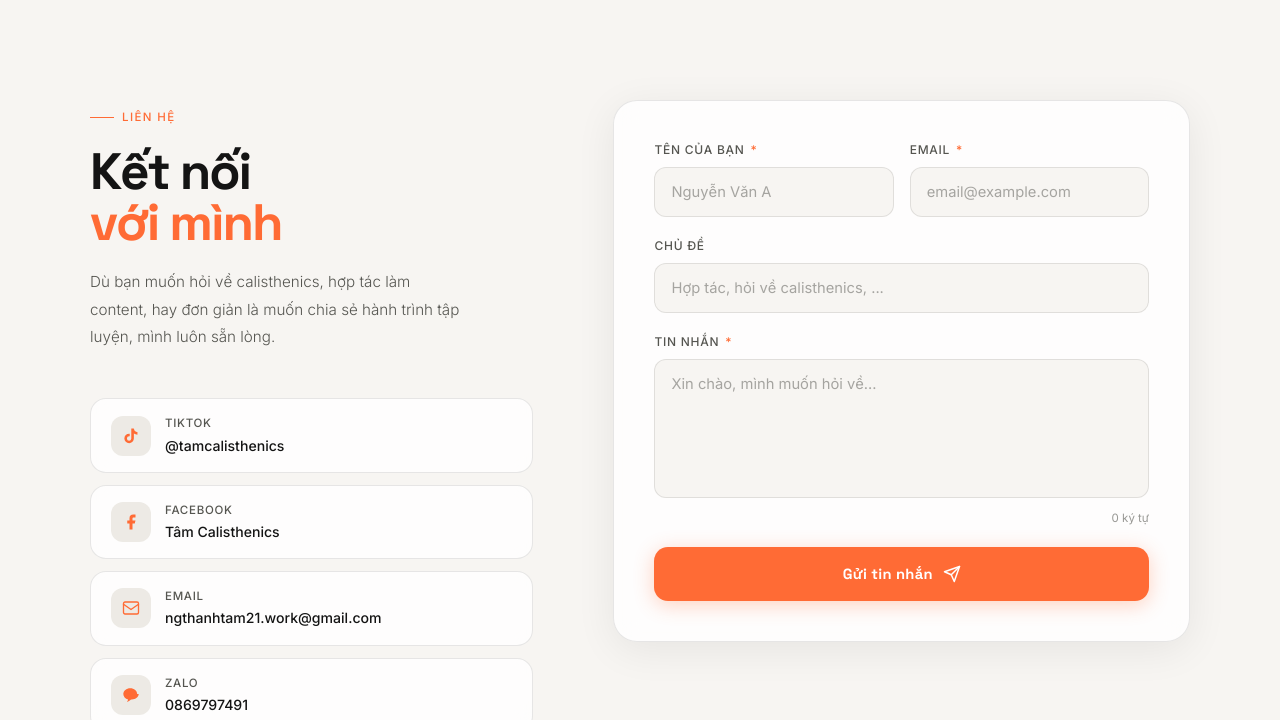
Test: ContactForm › submit thành công sẽ reset form và hiển thị thông báo
Type "Test User" into the field labelled "Tên của bạn *" at (774, 192), box [654,167,894,217]
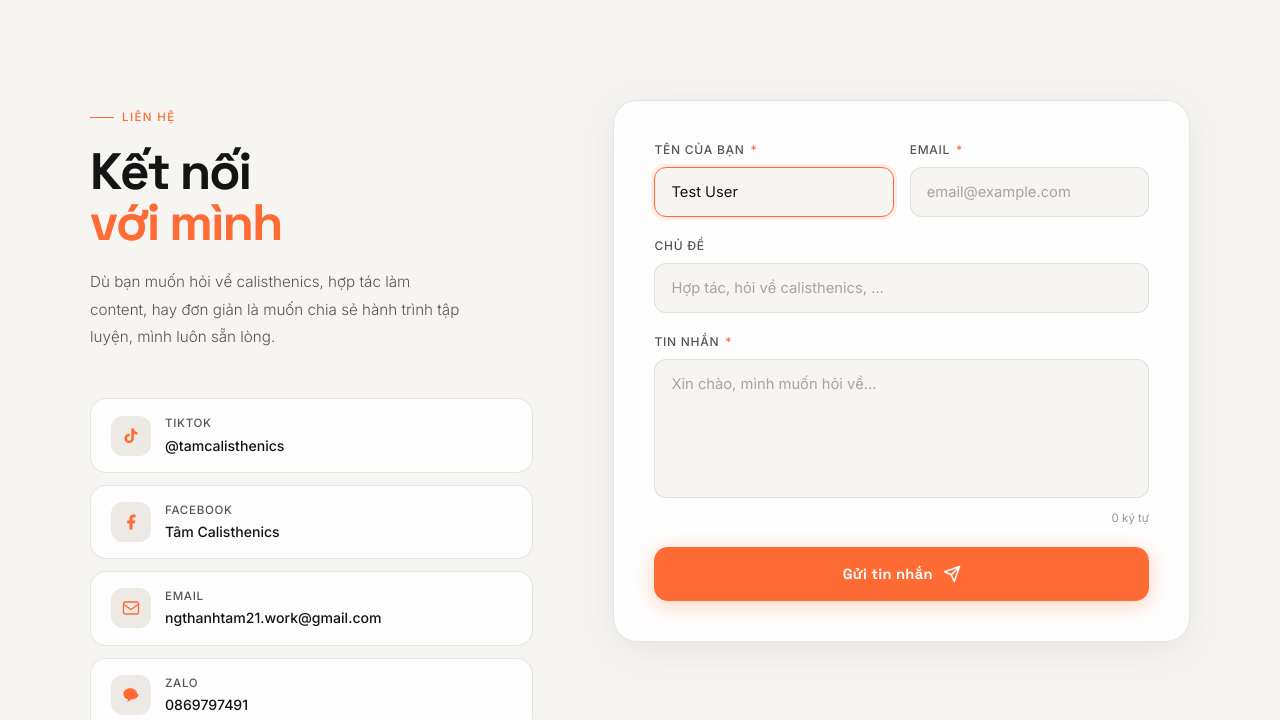
Type "test@example.com" into the field labelled "Email *" at (1029, 192), box [910,167,1149,217]
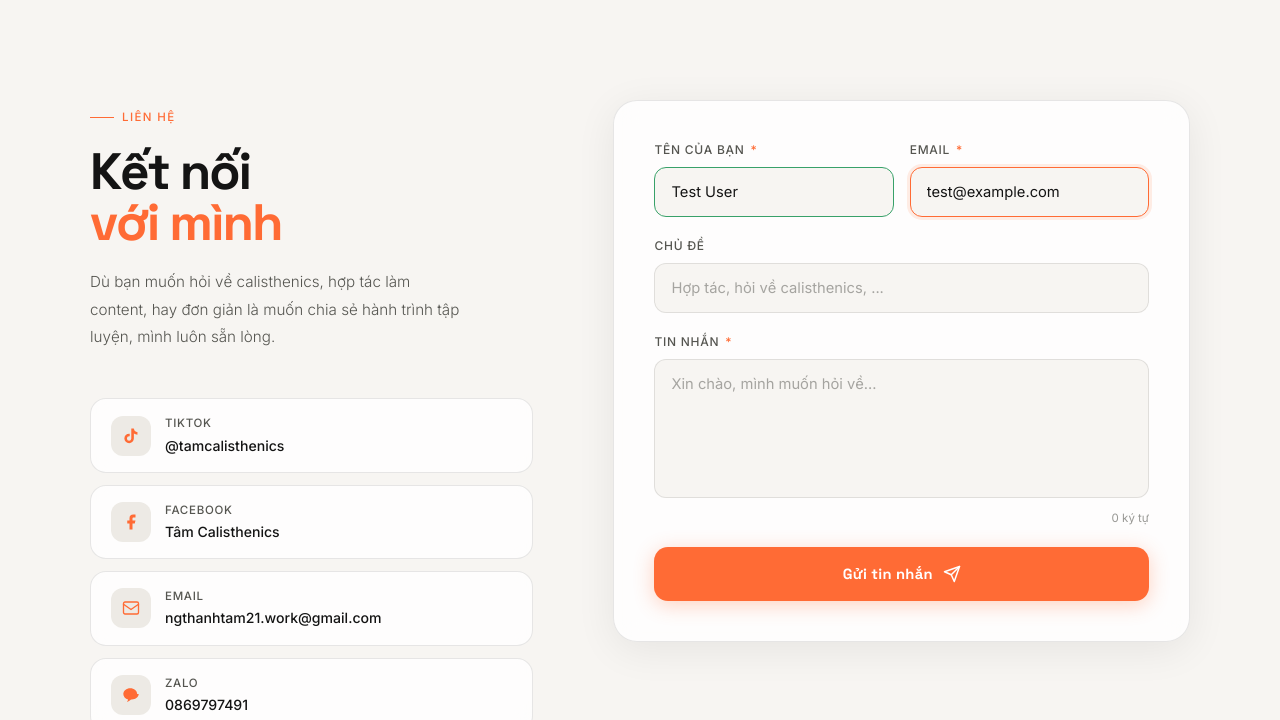
Type "Hello from unit test!" into the text box labelled "Tin nhắn *" at (902, 428), box [654,359,1149,498]
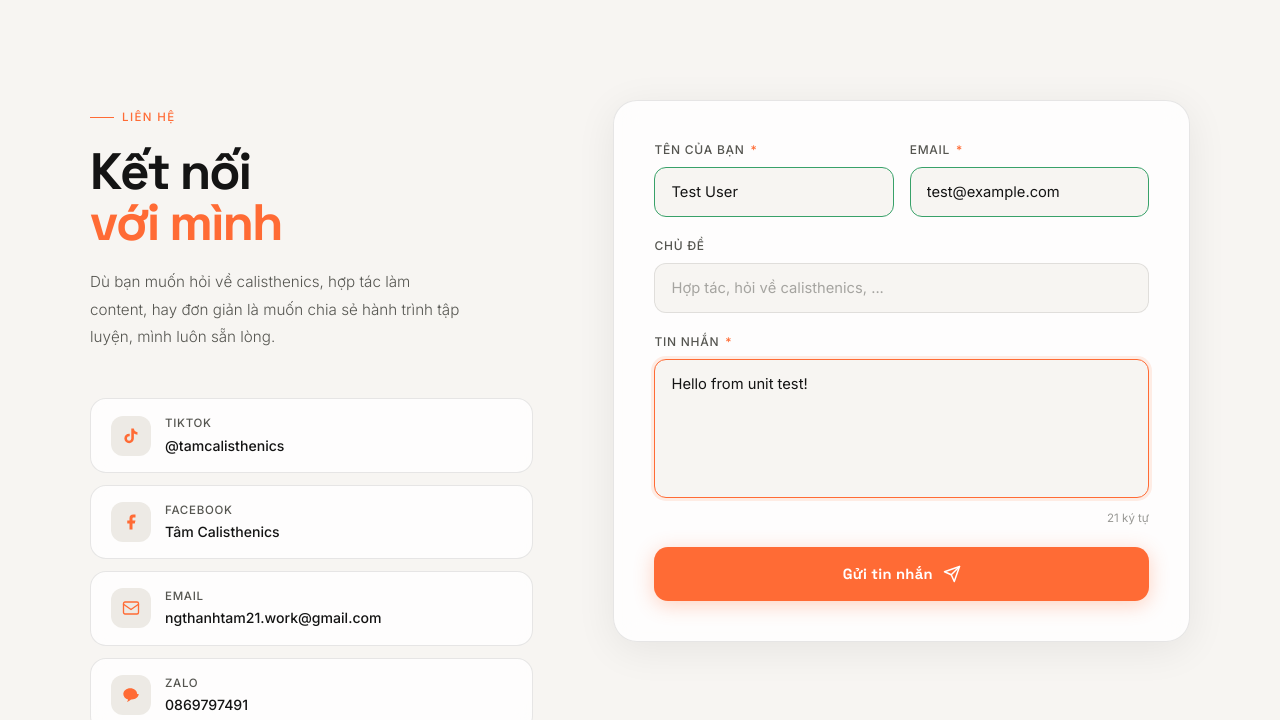
Click the button "Gửi tin nhắn" at (902, 574), box [654,547,1149,601]
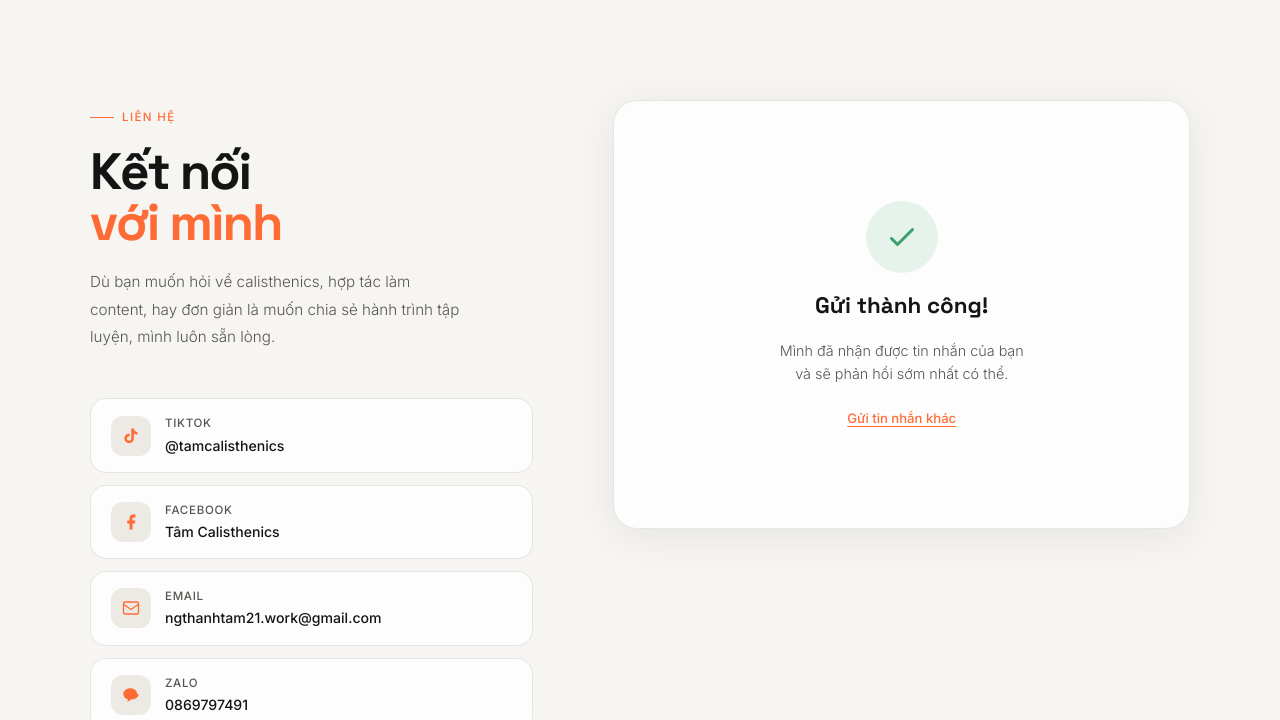
Now the text "Gửi thành công!" is shown, box [815,289,988,323]
Now the label labelled "Tên của bạn" is gone
